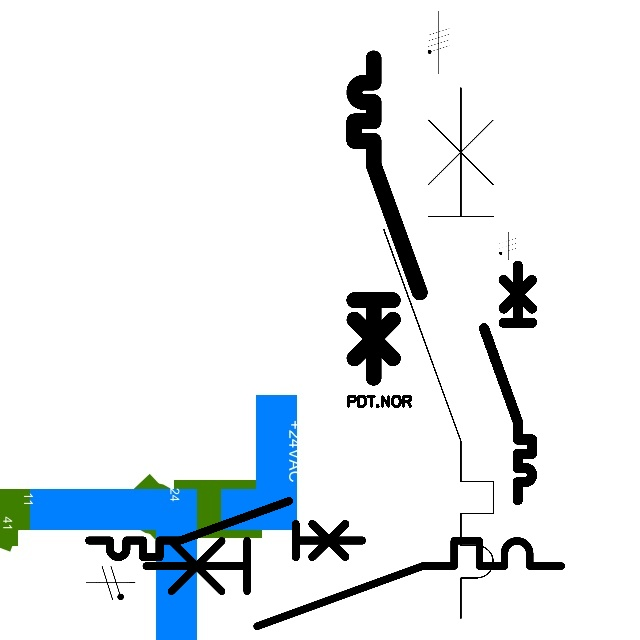interruptor_termomagnetico: (370, 74, 507, 632), (135, 530, 571, 637), (346, 50, 428, 386), (82, 494, 369, 564), (478, 259, 538, 505)
